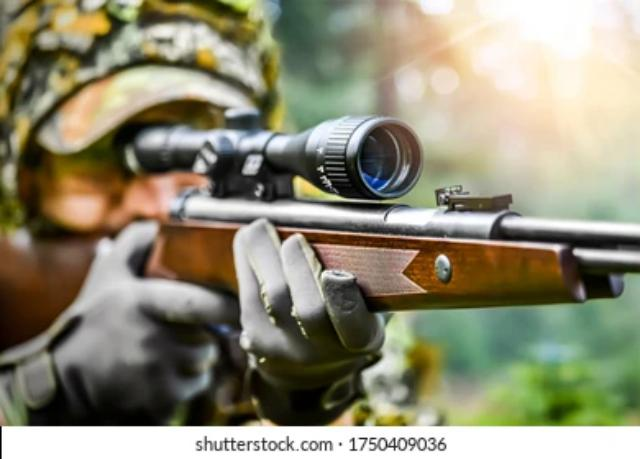other: (0, 0, 378, 417)
